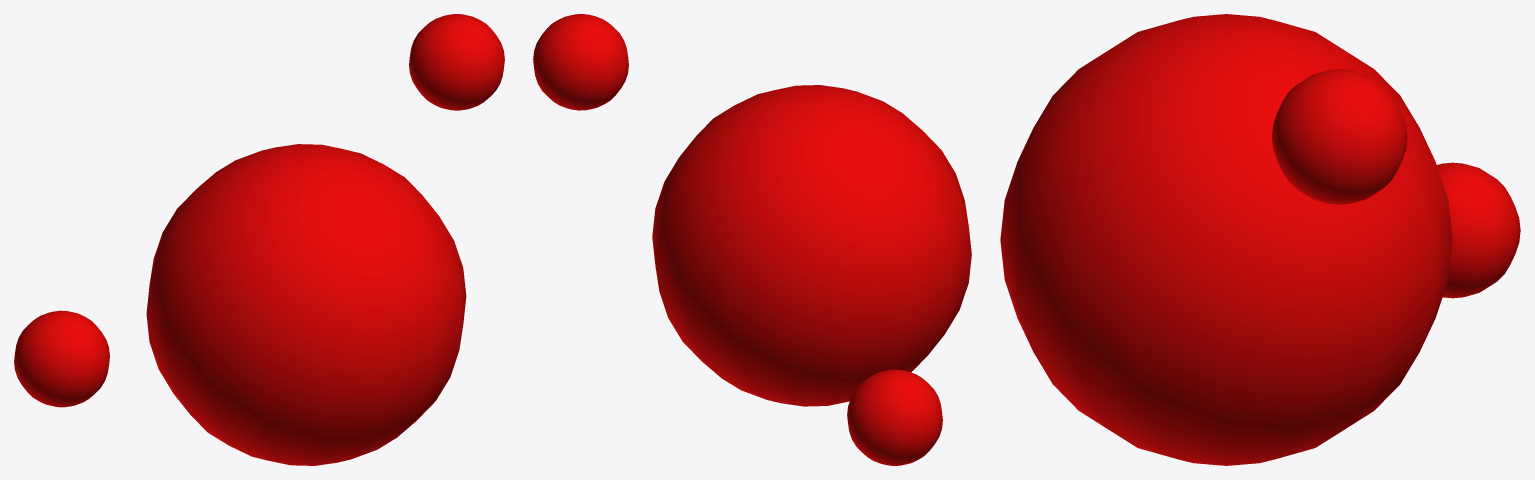
The model's file is actor_attack_inf.fbx.
3 renders of one model, left to right at view 1: azimuth 30°, elevation 25°; view 2: azimuth 150°, elevation 25°; view 3: azimuth 270°, elevation 25°, orthographic. The views are drawn at different scales.
Visible parts, largest first — view 1: Sphere, Sphere.002, Sphere.001; view 2: Sphere, Sphere.001, Sphere.002; view 3: Sphere, Sphere.001, Sphere.002.
Part boxes in pixels (bbox=[...]): Sphere: bbox=[146, 144, 466, 465]; Sphere.002: bbox=[14, 310, 109, 407]; Sphere.001: bbox=[409, 14, 504, 110]; Sphere: bbox=[652, 85, 971, 406]; Sphere.001: bbox=[533, 14, 628, 110]; Sphere.002: bbox=[847, 369, 942, 465]; Sphere: bbox=[1000, 14, 1452, 465]; Sphere.001: bbox=[1272, 69, 1407, 204]; Sphere.002: bbox=[1437, 162, 1520, 298].
Bounding box in the file's own units: 3.14 × 2.44 × 2.3.
